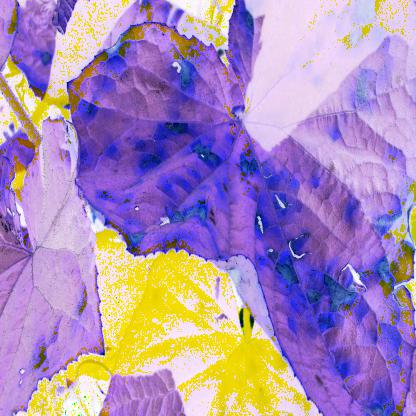tomato mold leaf: (58, 17, 416, 416)
